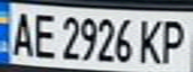2: (57, 11, 81, 62), (97, 15, 118, 64)
6: (112, 15, 139, 64)
9: (78, 12, 100, 62)
A: (6, 7, 36, 58)
E: (27, 9, 60, 60)
K: (136, 15, 166, 65)
P: (157, 16, 190, 65)
